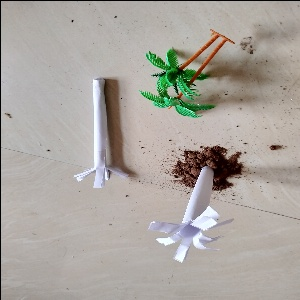plant: (134, 20, 228, 119)
weed: (71, 74, 130, 199), (146, 165, 227, 256)
